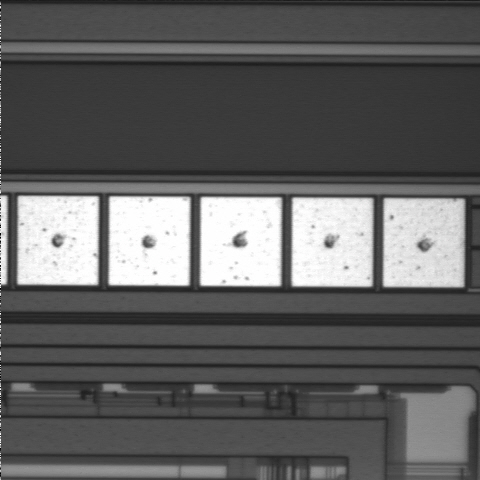pad: (17, 196, 99, 285), (109, 196, 190, 286), (200, 197, 281, 286), (292, 198, 373, 287), (383, 198, 464, 287)
